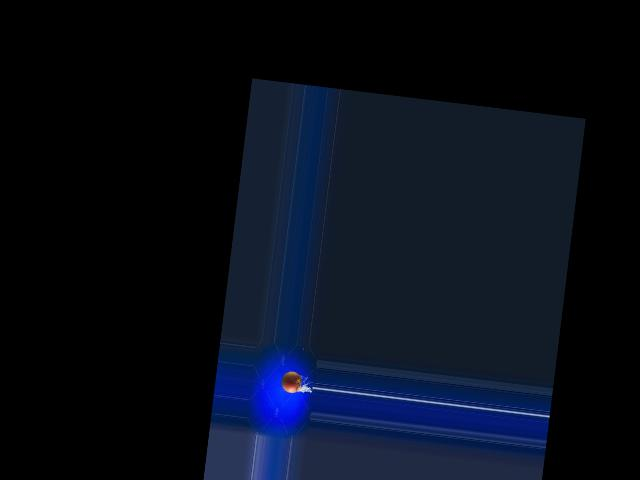tomato: (280, 369, 302, 393)
